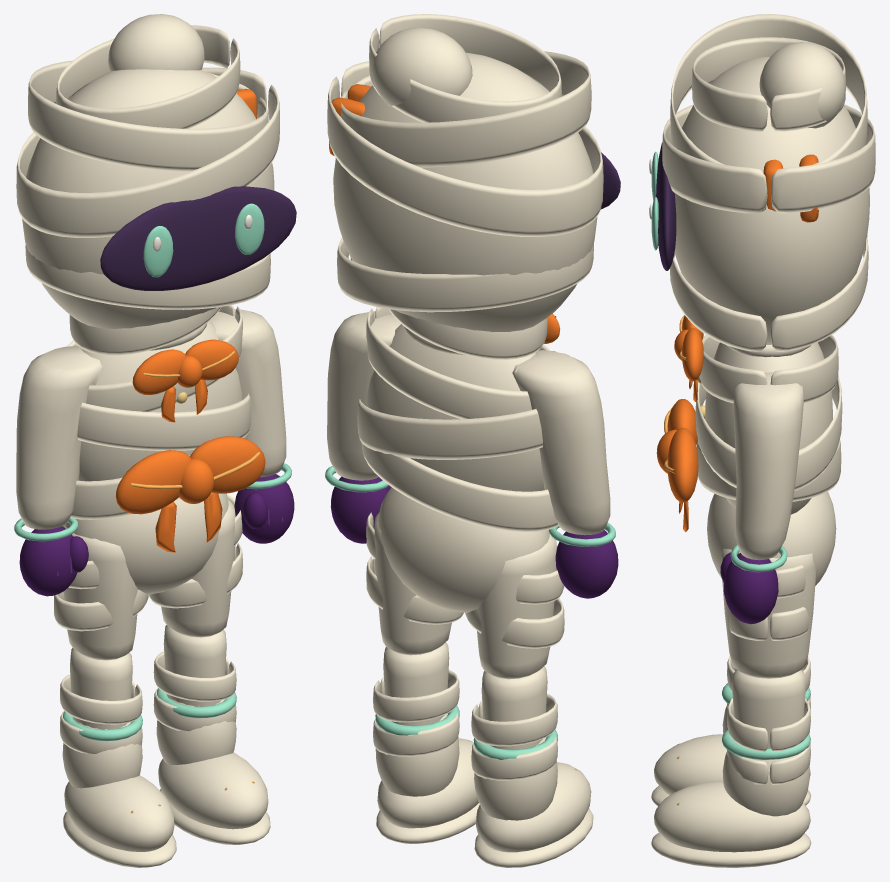
File: A074-HW_Final_NPC5.glb
The picture shows the model from 3 angles, left to right: view 1: azimuth 30°, elevation 25°; view 2: azimuth 150°, elevation 25°; view 3: azimuth 270°, elevation 25°; orthographic projection. The views are drawn at different scales.
Visible parts, largest first — view 1: HW_Mesh_Head__cream.004, HW_Mesh_Chest__cream.004, HW_Mesh_RightFoot__cream.004, HW_Mesh_LeftFoot__cream.004, HW_Mesh_Head__night.004, HW_Mesh_Hips__orange.004, HW_Mesh_RightUpperArm__cream.004, HW_Mesh_RightUpperLeg__cream.004, HW_Mesh_Hips__cream.004, HW_Mesh_LeftUpperLeg__cream.004, HW_Mesh_Chest__orange.004, HW_Mesh_LeftUpperArm__cream.004 (+10 smaller); view 2: HW_Mesh_Head__cream.004, HW_Mesh_Chest__cream.004, HW_Mesh_RightFoot__cream.004, HW_Mesh_LeftFoot__cream.004, HW_Mesh_Hips__cream.004, HW_Mesh_RightUpperLeg__cream.004, HW_Mesh_RightUpperArm__cream.004, HW_Mesh_LeftUpperLeg__cream.004, HW_Mesh_LeftUpperArm__cream.004, HW_Mesh_RightLowerArm__cream.004, HW_Mesh_LeftLowerLeg__cream.004, HW_Mesh_RightLowerLeg__cream.004 (+9 smaller); view 3: HW_Mesh_Head__cream.004, HW_Mesh_LeftFoot__cream.004, HW_Mesh_Chest__cream.004, HW_Mesh_LeftUpperArm__cream.004, HW_Mesh_LeftUpperLeg__cream.004, HW_Mesh_Hips__cream.004, HW_Mesh_RightFoot__cream.004, HW_Mesh_LeftLowerLeg__cream.004, HW_Mesh_LeftLowerArm__cream.004, HW_Mesh_Hips__orange.004, HW_Mesh_LeftHand__purple.003, HW_Mesh_Head__night.004 (+5 smaller).
Part boxes in pixels (x1,y1,x2,y2): HW_Mesh_Head__cream.004: [16, 14, 279, 355]; HW_Mesh_Chest__cream.004: [67, 305, 250, 519]; HW_Mesh_RightFoot__cream.004: [60, 674, 176, 867]; HW_Mesh_LeftFoot__cream.004: [153, 651, 270, 844]; HW_Mesh_Head__night.004: [100, 186, 296, 290]; HW_Mesh_Hips__orange.004: [115, 436, 265, 552]; HW_Mesh_RightUpperArm__cream.004: [17, 346, 103, 493]; HW_Mesh_RightUpperLeg__cream.004: [54, 524, 148, 660]; HW_Mesh_Hips__cream.004: [65, 493, 228, 594]; HW_Mesh_LeftUpperLeg__cream.004: [149, 495, 242, 637]; HW_Mesh_Chest__orange.004: [132, 339, 238, 422]; HW_Mesh_LeftUpperArm__cream.004: [210, 309, 282, 421]; HW_Mesh_Head__cream.004: [327, 14, 603, 359]; HW_Mesh_Chest__cream.004: [357, 307, 558, 531]; HW_Mesh_RightFoot__cream.004: [471, 694, 593, 867]; HW_Mesh_LeftFoot__cream.004: [373, 670, 479, 843]; HW_Mesh_Hips__cream.004: [378, 487, 549, 612]; HW_Mesh_RightUpperLeg__cream.004: [465, 534, 564, 679]; HW_Mesh_RightUpperArm__cream.004: [512, 350, 606, 500]; HW_Mesh_LeftUpperLeg__cream.004: [366, 512, 463, 655]; HW_Mesh_LeftUpperArm__cream.004: [327, 311, 400, 449]; HW_Mesh_RightLowerArm__cream.004: [539, 437, 610, 535]; HW_Mesh_LeftLowerLeg__cream.004: [383, 642, 449, 725]; HW_Mesh_RightLowerLeg__cream.004: [481, 666, 547, 749]; HW_Mesh_Head__cream.004: [662, 14, 875, 351]; HW_Mesh_LeftFoot__cream.004: [651, 698, 811, 867]; HW_Mesh_Chest__cream.004: [695, 335, 842, 514]; HW_Mesh_LeftUpperArm__cream.004: [733, 372, 803, 530]; HW_Mesh_LeftUpperLeg__cream.004: [721, 548, 815, 678]; HW_Mesh_Hips__cream.004: [707, 491, 836, 585]; HW_Mesh_RightFoot__cream.004: [651, 655, 811, 806]; HW_Mesh_LeftLowerLeg__cream.004: [732, 669, 805, 748]; HW_Mesh_LeftLowerArm__cream.004: [735, 464, 796, 560]; HW_Mesh_Hips__orange.004: [656, 399, 698, 531]; HW_Mesh_LeftHand__purple.003: [720, 552, 778, 624]; HW_Mesh_Head__night.004: [656, 143, 676, 270].
Bounding box in the file's own units: 0.3615 × 1 × 0.2569.
